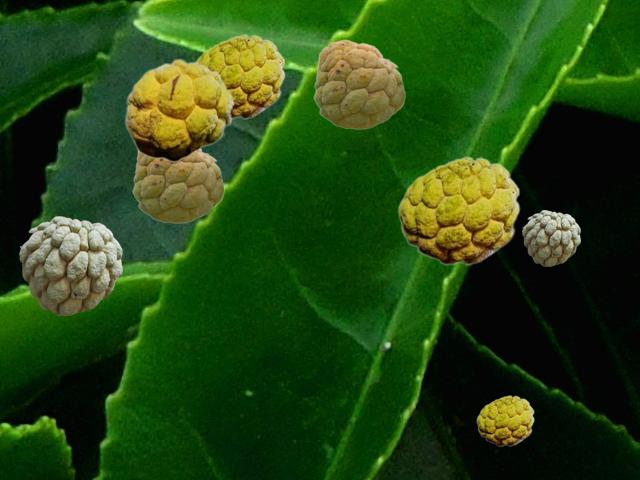atis: (397, 156, 519, 264), (124, 58, 233, 161), (19, 216, 121, 314), (313, 39, 404, 128), (196, 34, 284, 118), (132, 149, 223, 222), (522, 210, 579, 265), (476, 395, 533, 445)
